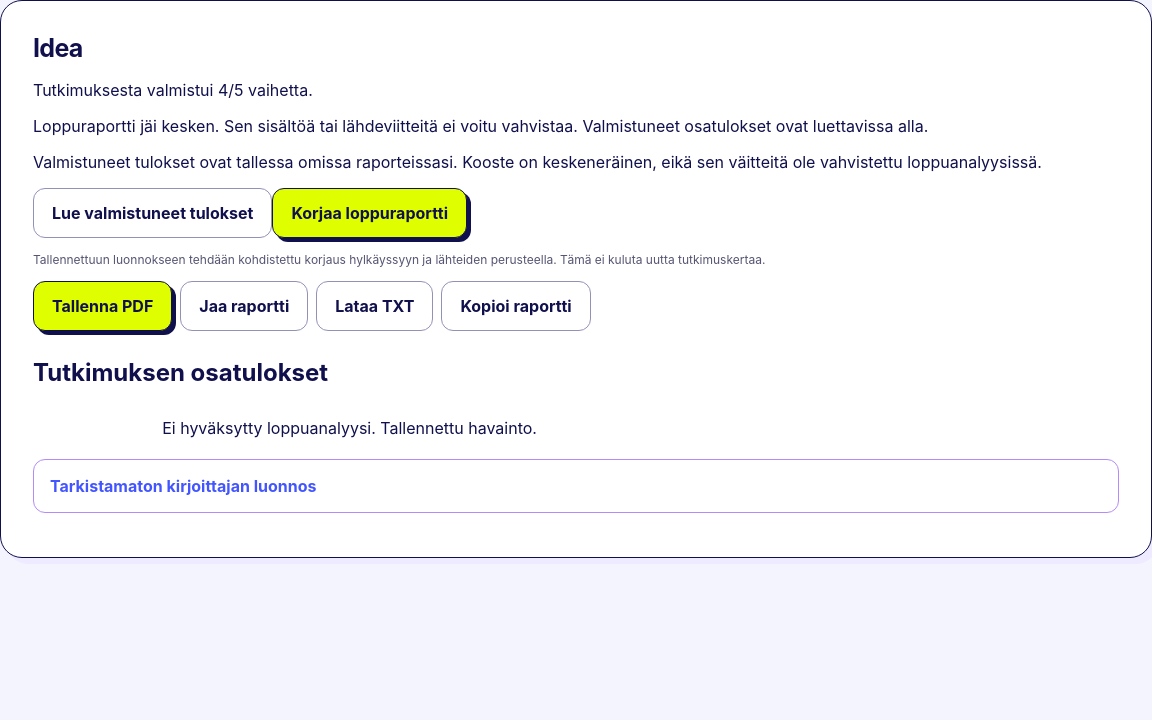
Scenario: retry posts only the existing job and displays its completed report
Click the button "Korjaa loppuraportti" at (370, 213), box [272,188,467,238]
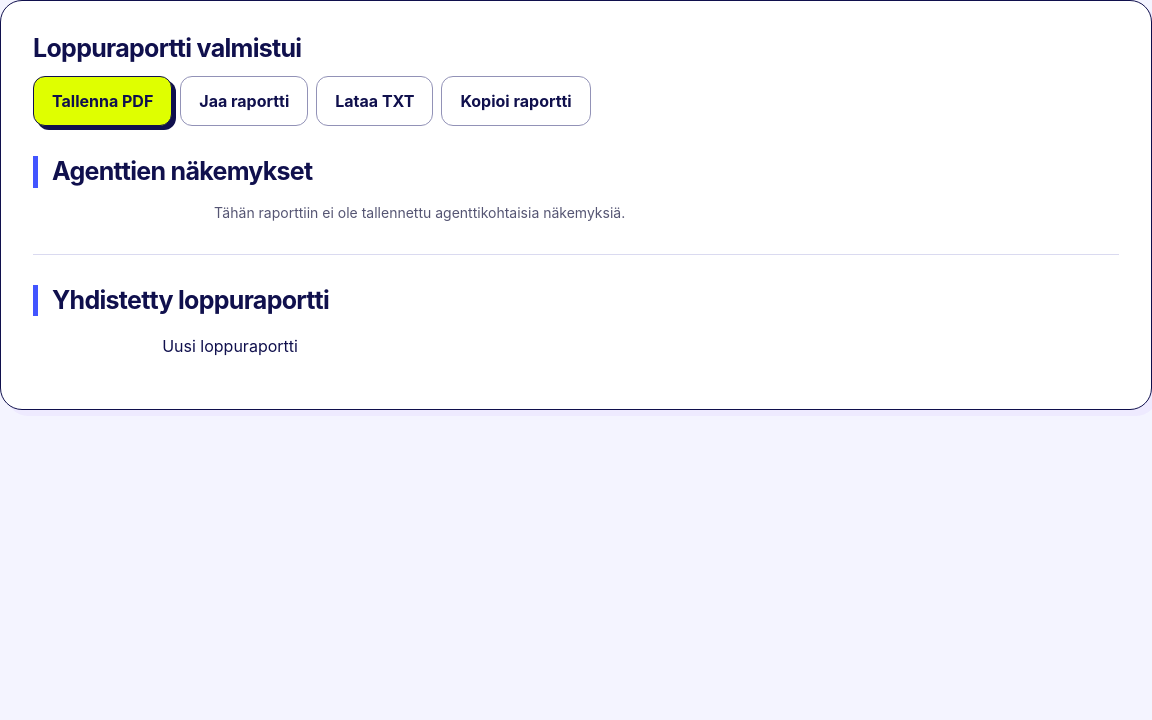
Expected: the text "Uusi loppuraportti" is shown, [162,336,298,356]
